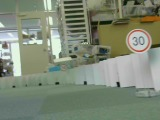speed_30: (125, 28, 152, 54)
